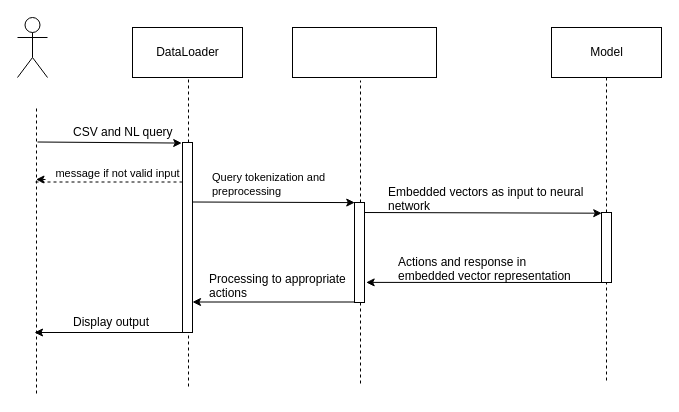
Some shapes in this 679 by 412 pixel diagram are drawn without their labels. Each missing label, with the centre of its shape:
"Actor" goes at point (32, 47).
"CSV and query to Embedded vector processing" goes at point (364, 52).
